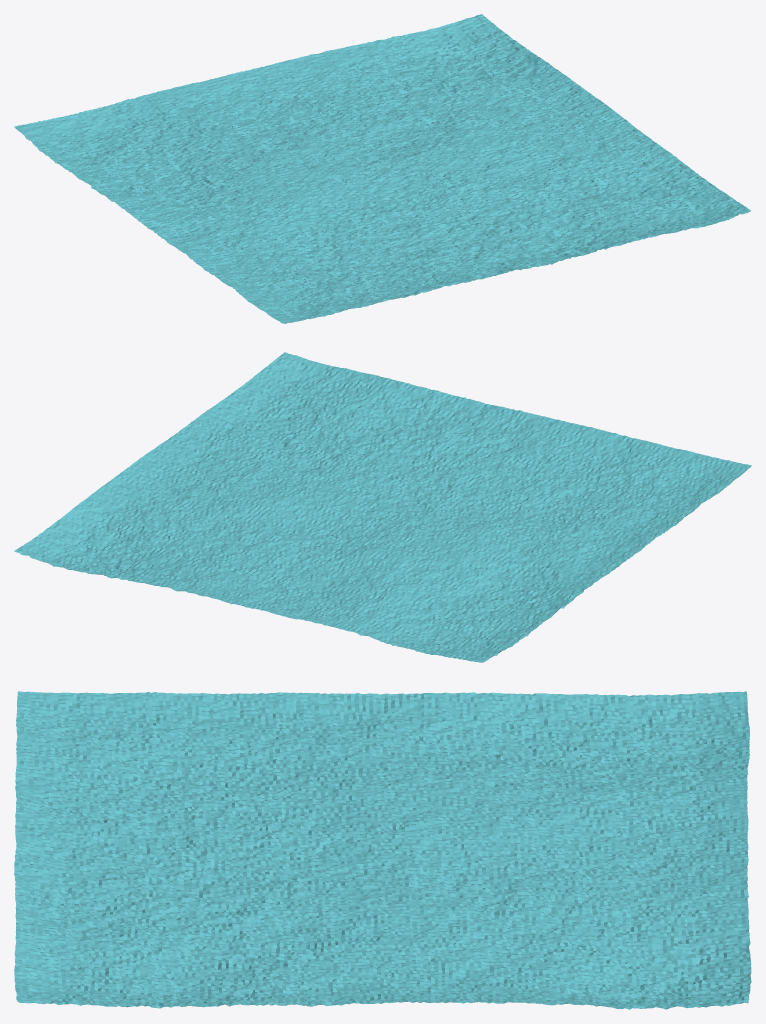
File: floor.fbx
The picture shows the model from 3 angles, top to bottom: view 1: azimuth 30°, elevation 25°; view 2: azimuth 150°, elevation 25°; view 3: azimuth 270°, elevation 25°; orthographic projection. The views are drawn at different scales.
Parts seen in each view (by area): view 1: Plane; view 2: Plane; view 3: Plane.
Boxes of the visible parts, x1=… form: Plane: x1=14, y1=14, x2=750, y2=323; Plane: x1=14, y1=352, x2=751, y2=662; Plane: x1=14, y1=691, x2=751, y2=1009.
Bounding box in the file's own units: 30413 × 973 × 30447.
